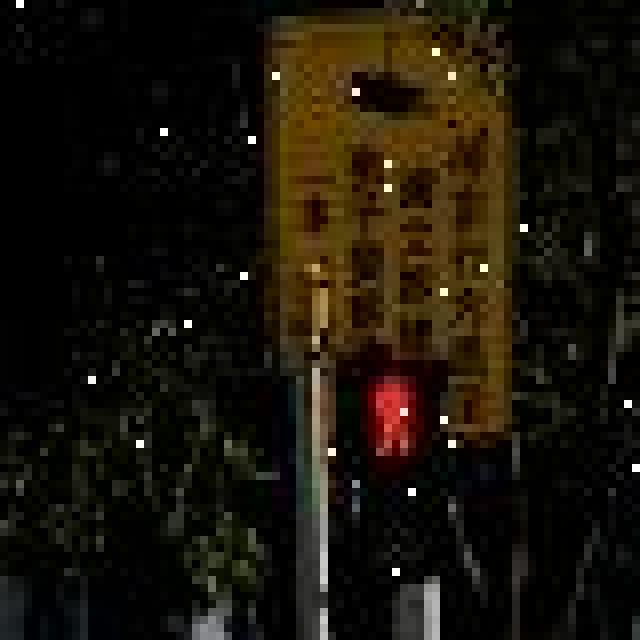redlight: (333, 360, 451, 580)
